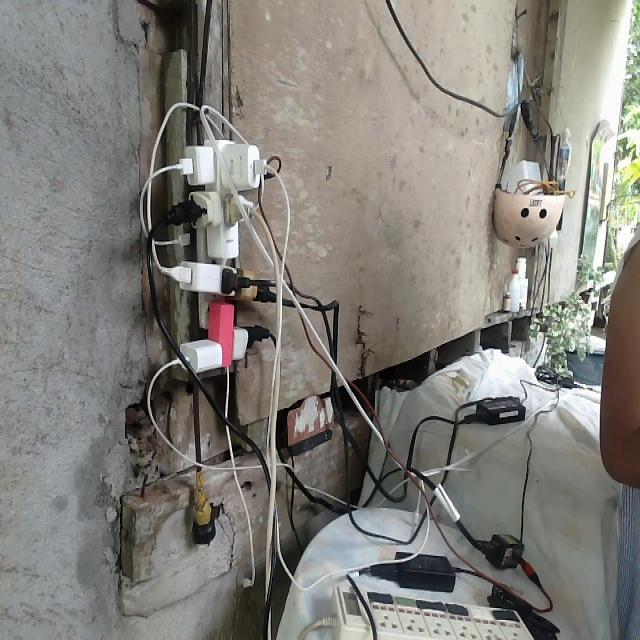-: (155, 130, 278, 373)
